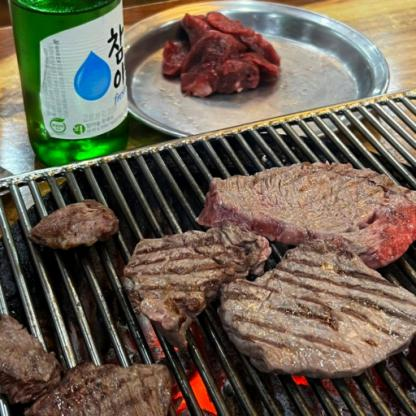Carne: (228, 260, 416, 380), (120, 225, 272, 347), (16, 361, 177, 415), (0, 314, 54, 400), (30, 203, 126, 249)
